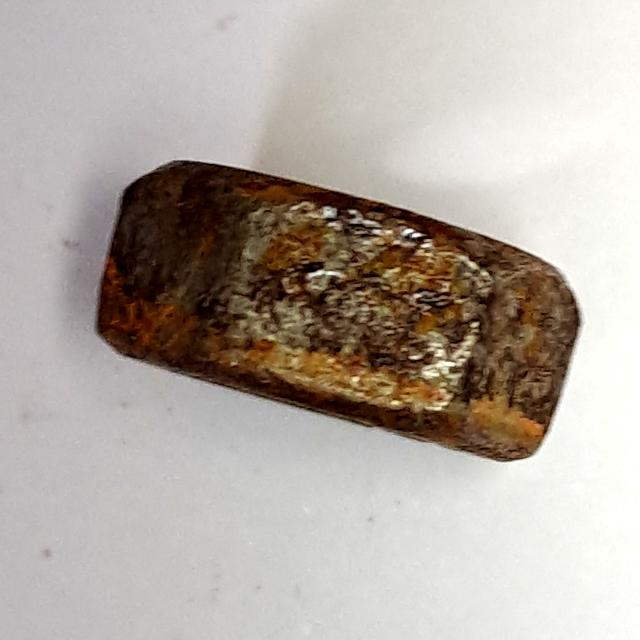Side_Rust: (81, 139, 592, 477)
